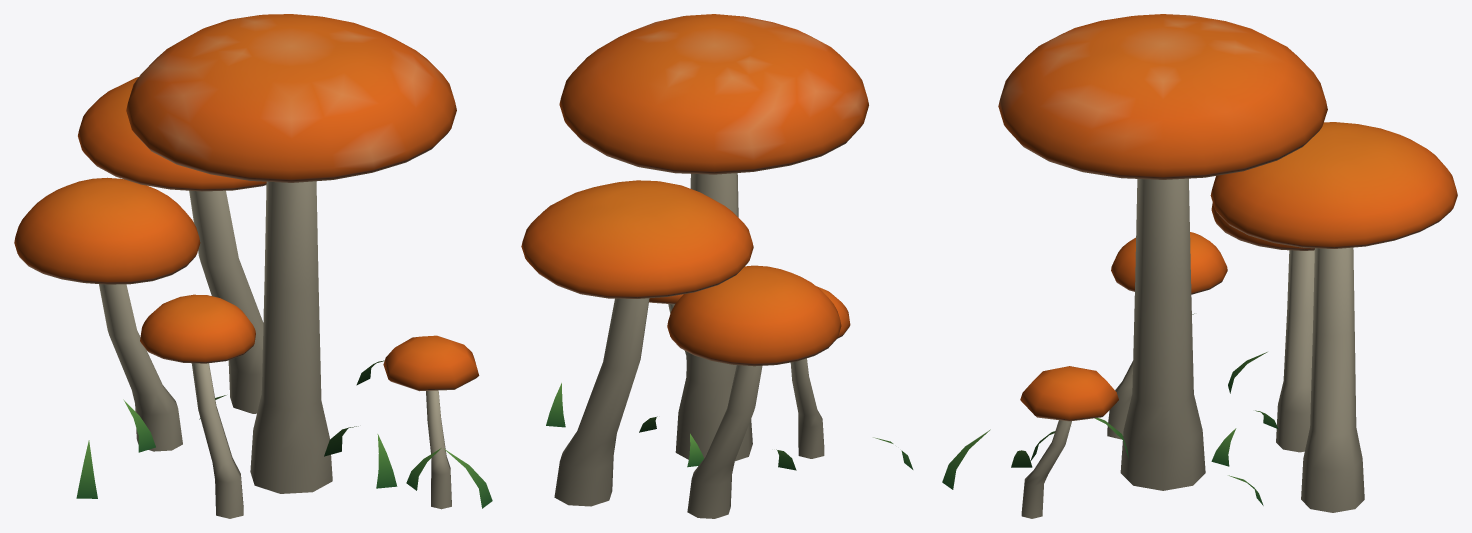
File: mush_orange.glb
3 views of the same model, side by side, from view 1: azimuth 30°, elevation 25°; view 2: azimuth 150°, elevation 25°; view 3: azimuth 270°, elevation 25° (orthographic). The views are drawn at different scales.
Parts seen in each view (by area): view 1: mush_orange; view 2: mush_orange; view 3: mush_orange.
Part boxes in pixels (<box>): mush_orange: <box>14,14,492,518</box>; mush_orange: <box>521,14,913,518</box>; mush_orange: <box>942,14,1457,518</box>.
Size of the model in its own units: 0.3812 by 0.4389 by 0.4784.
